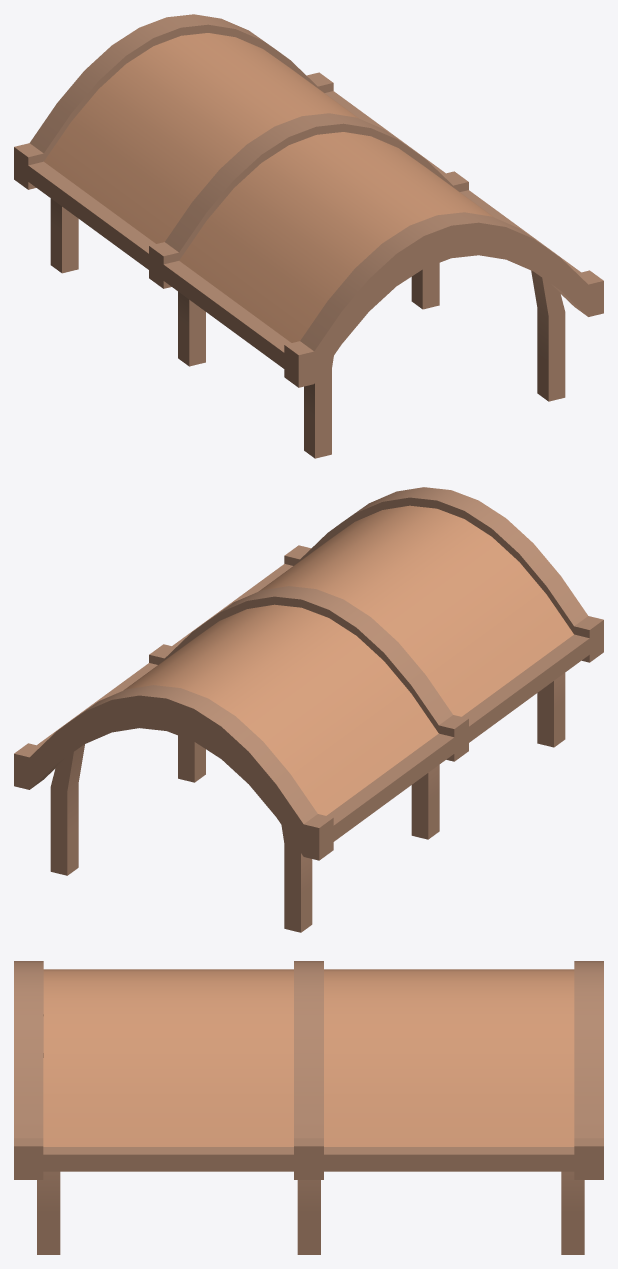
The model's file is bridge_3_up_2.fbx.
3 renders of one model, top to bottom at view 1: azimuth 30°, elevation 25°; view 2: azimuth 150°, elevation 25°; view 3: azimuth 270°, elevation 25°, orthographic. The views are drawn at different scales.
Parts seen in each view (by area): view 1: bridge_3_up_2; view 2: bridge_3_up_2; view 3: bridge_3_up_2.
Boxes of the visible parts, bbox=[...] form: bridge_3_up_2: bbox=[14, 14, 603, 458]; bridge_3_up_2: bbox=[14, 487, 603, 932]; bridge_3_up_2: bbox=[14, 961, 603, 1254].
Bounding box in the file's own units: 9.8 × 6.46 × 15.83.
